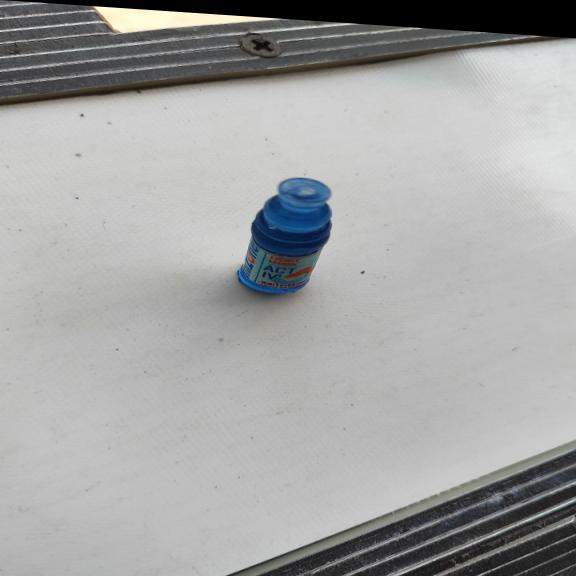Plastik: (234, 173, 334, 298)
